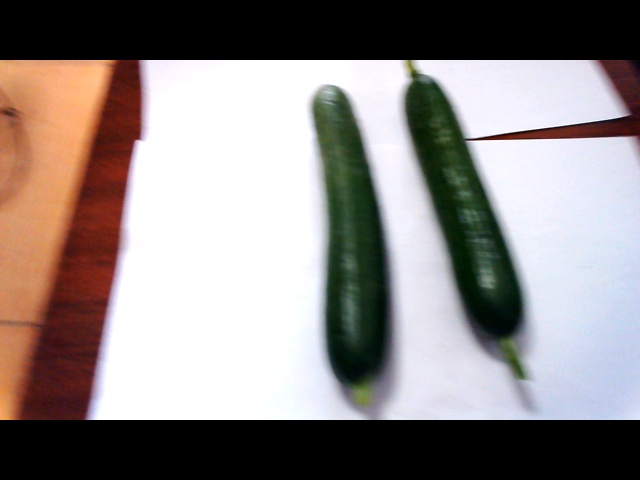cucumber: (403, 69, 539, 365), (303, 89, 398, 415)
